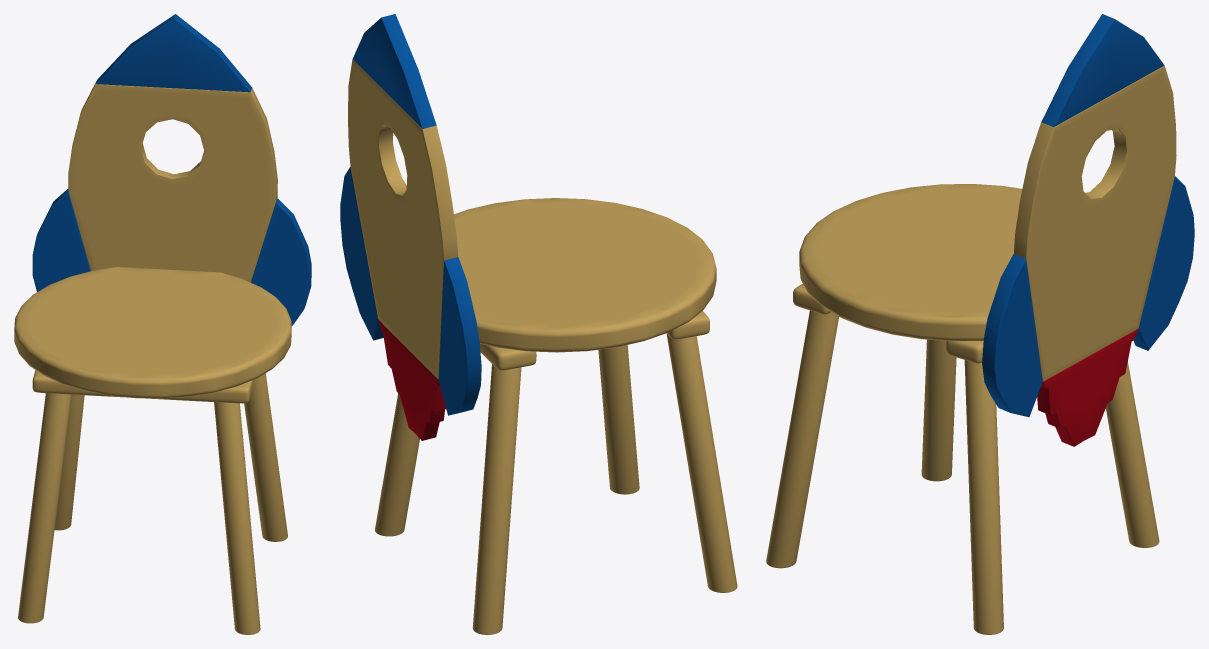
Rendered from sediarazzo_LOD0.fbx.
3 renders of one model, left to right at view 1: azimuth 30°, elevation 25°; view 2: azimuth 150°, elevation 25°; view 3: azimuth 270°, elevation 25°, orthographic. The views are drawn at different scales.
Parts seen in each view (by area): view 1: sediarazzo; view 2: sediarazzo; view 3: sediarazzo.
Boxes of the visible parts, x1,y1,x2,y2 form: sediarazzo: [14, 14, 311, 634]; sediarazzo: [340, 14, 737, 634]; sediarazzo: [766, 14, 1194, 634].
Bounding box in the file's own units: 165 × 246 × 164.
